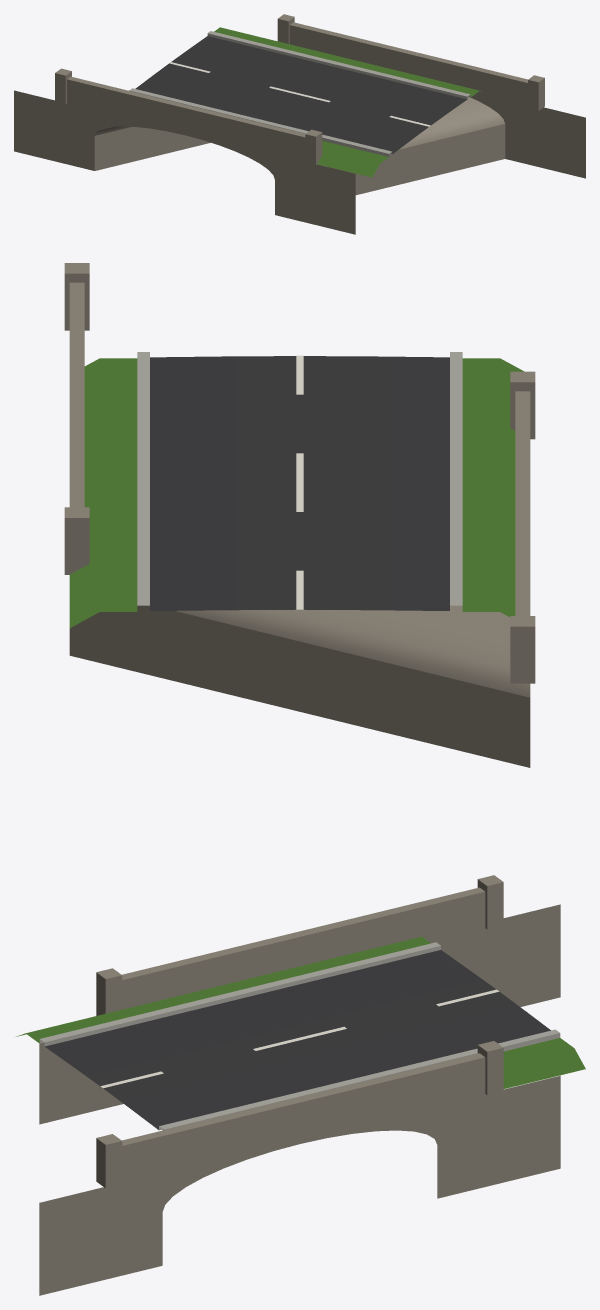
The model's file is river_road_bridge_center.glb.
3 views of the same model, one above another, from view 1: azimuth 30°, elevation 25°; view 2: azimuth 150°, elevation 25°; view 3: azimuth 270°, elevation 25° (orthographic). The views are drawn at different scales.
Parts seen in each view (by area): view 1: river_road_bridge_center_lod0; view 2: river_road_bridge_center_lod0; view 3: river_road_bridge_center_lod0.
Boxes of the visible parts, bbox=[...] form: river_road_bridge_center_lod0: bbox=[14, 14, 585, 234]; river_road_bridge_center_lod0: bbox=[64, 263, 535, 767]; river_road_bridge_center_lod0: bbox=[16, 875, 585, 1295].
Size of what is drawn, in the model's own units: 18.51 by 3.95 by 14.99.
